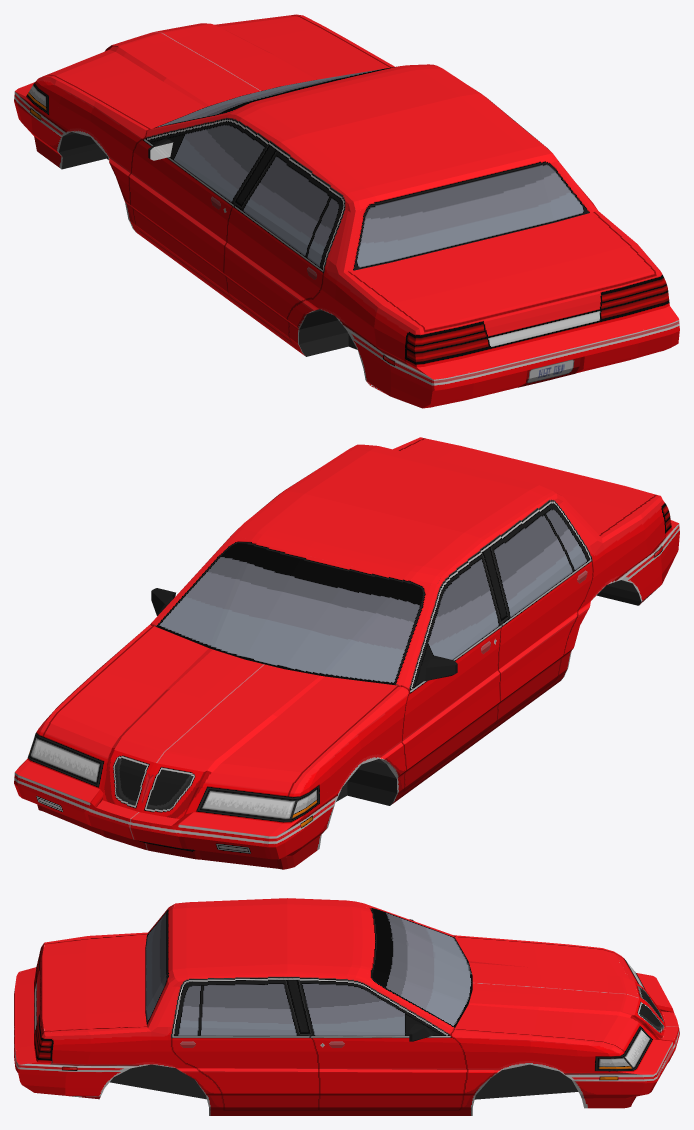
The model's file is 90grandamsedan.fbx.
3 views of the same model, one above another, from view 1: azimuth 30°, elevation 25°; view 2: azimuth 150°, elevation 25°; view 3: azimuth 270°, elevation 25° (orthographic). The views are drawn at different scales.
Visible parts, largest first — view 1: 90grandamsedan; view 2: 90grandamsedan; view 3: 90grandamsedan.
Part boxes in pixels (x1=…): 90grandamsedan: x1=14, y1=14, x2=679, y2=408; 90grandamsedan: x1=14, y1=437, x2=679, y2=869; 90grandamsedan: x1=14, y1=898, x2=679, y2=1115.
Bounding box in the file's own units: 1.95 × 1.07 × 4.79.
